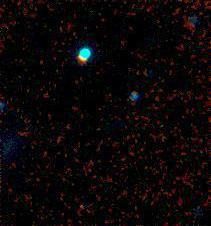star: (68, 192, 98, 222)
